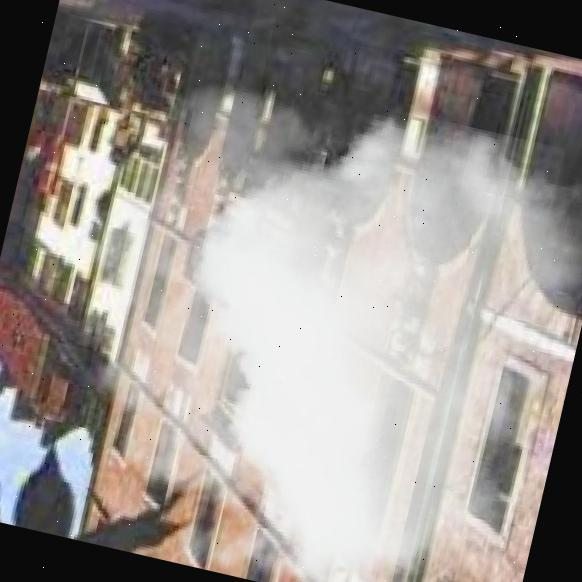smoke: (0, 43, 582, 582)
